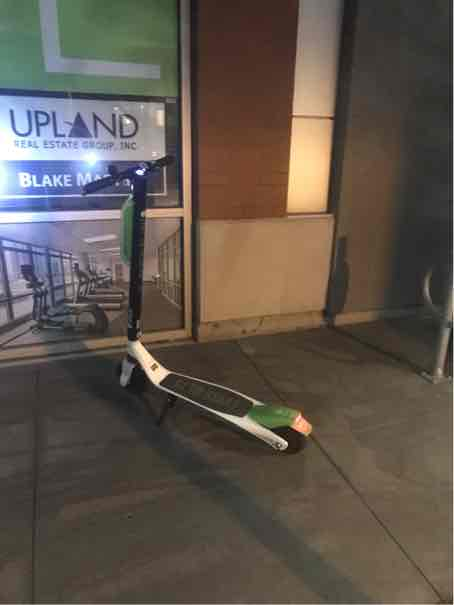scooter: (80, 137, 318, 465)
